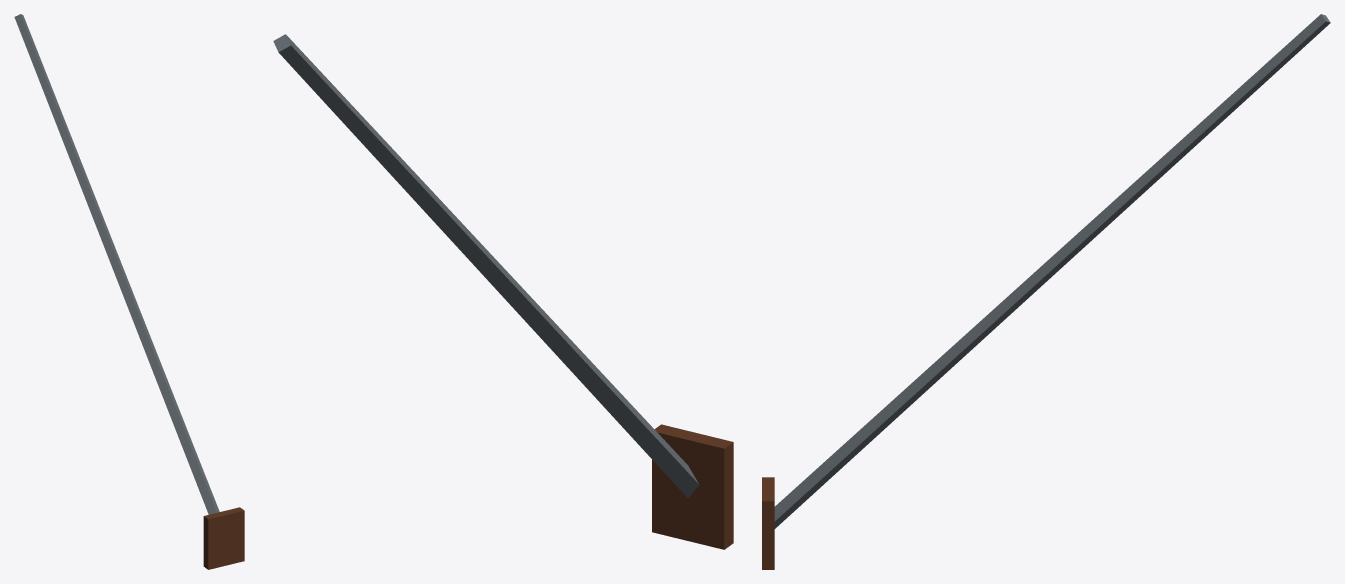
The model's file is flag_pole_wall_lod1.glb.
The picture shows the model from 3 angles, left to right: view 1: azimuth 30°, elevation 25°; view 2: azimuth 150°, elevation 25°; view 3: azimuth 270°, elevation 25°; orthographic projection. The views are drawn at different scales.
Visible parts, largest first — view 1: flag_pole_wall_lod1; view 2: flag_pole_wall_lod1; view 3: flag_pole_wall_lod1.
Boxes of the visible parts, box(x1,y1,x2,y2) form: flag_pole_wall_lod1: box(14, 14, 244, 569); flag_pole_wall_lod1: box(273, 34, 733, 549); flag_pole_wall_lod1: box(762, 14, 1330, 569).
Size of the model in its own units: 0.18 by 1.9 by 1.8.
Materials: 2 (2 with a texture image).
